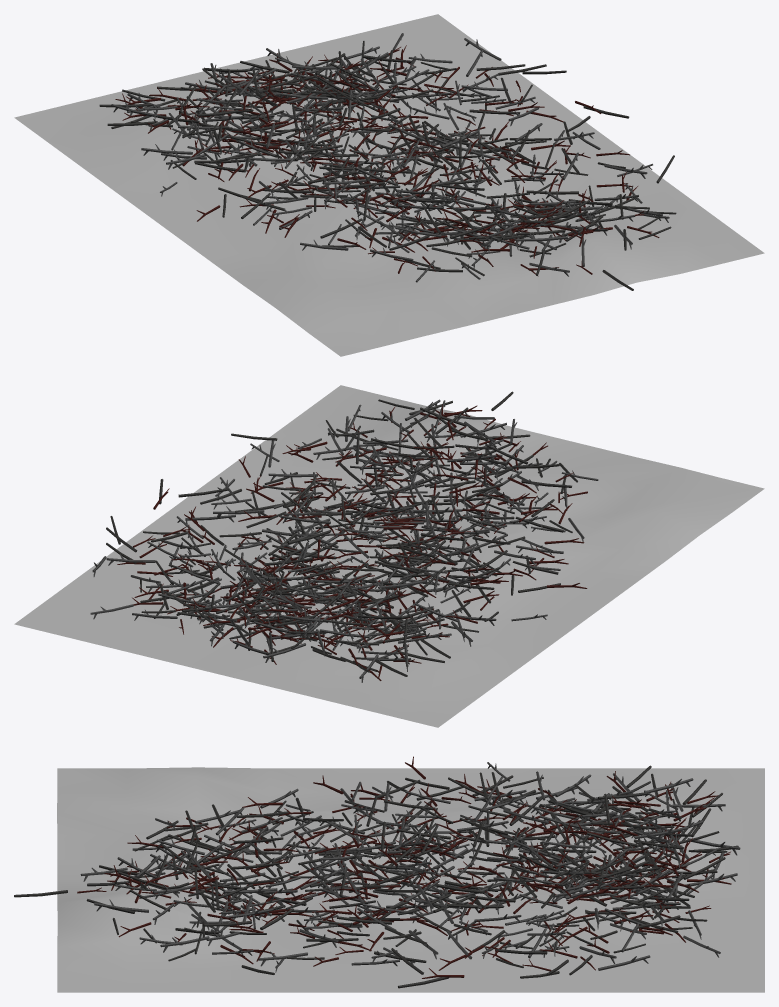
Rendered from Stiks.fbx.
The picture shows the model from 3 angles, top to bottom: view 1: azimuth 30°, elevation 25°; view 2: azimuth 150°, elevation 25°; view 3: azimuth 270°, elevation 25°; orthographic projection. The views are drawn at different scales.
Visible parts, largest first — view 1: Plane; view 2: Plane; view 3: Plane.
Boxes of the visible parts, bbox=[...] form: Plane: bbox=[14, 14, 764, 356]; Plane: bbox=[14, 385, 764, 727]; Plane: bbox=[57, 767, 764, 992].
Size of the model in its own units: 2287 by 238 by 3079.
